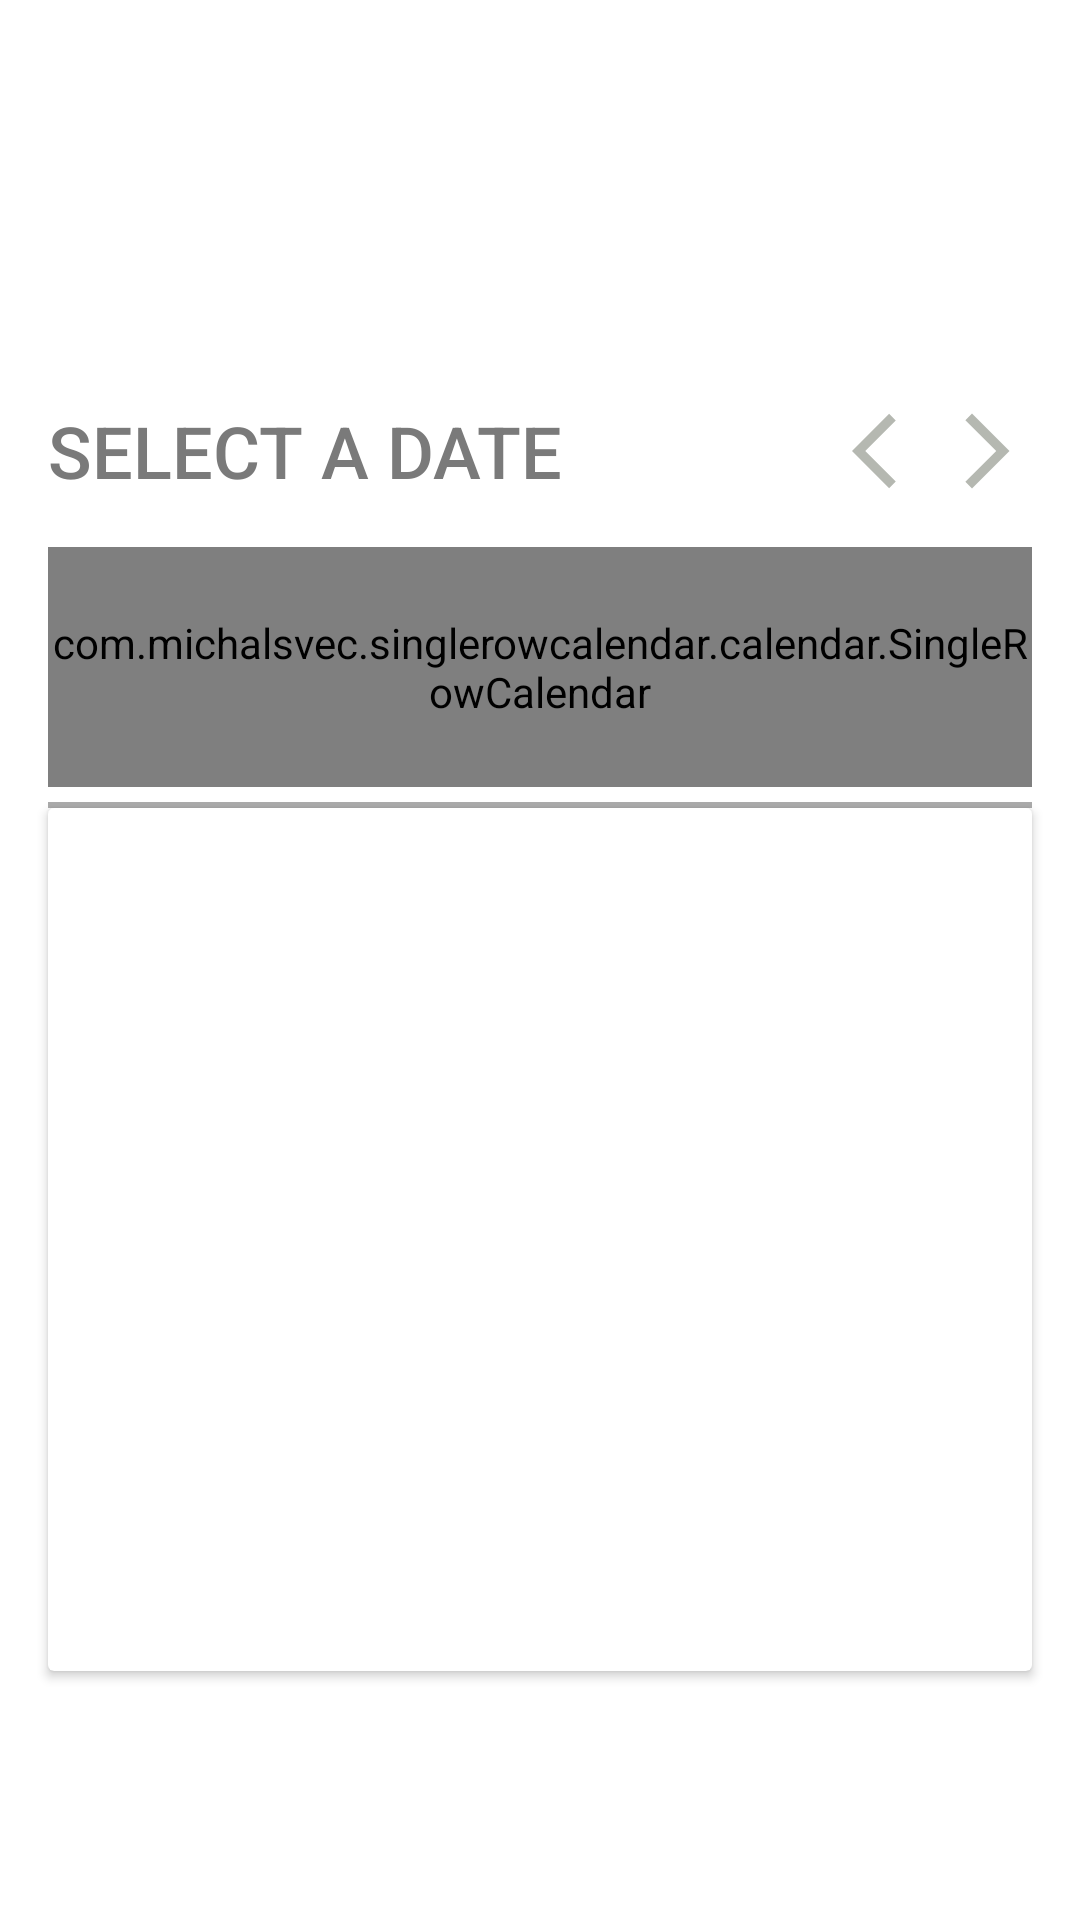

Where icons sit on this 1080x1920 app screen, as (x1, y1, x2, y2):
arrow left: (852, 414, 896, 488)
arrow right: (965, 414, 1009, 488)
